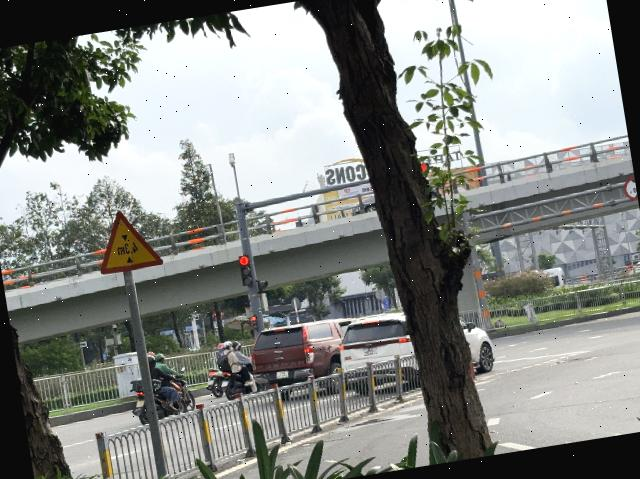chieu-cao-tinh-khong-thuc-te: (91, 204, 162, 275)
